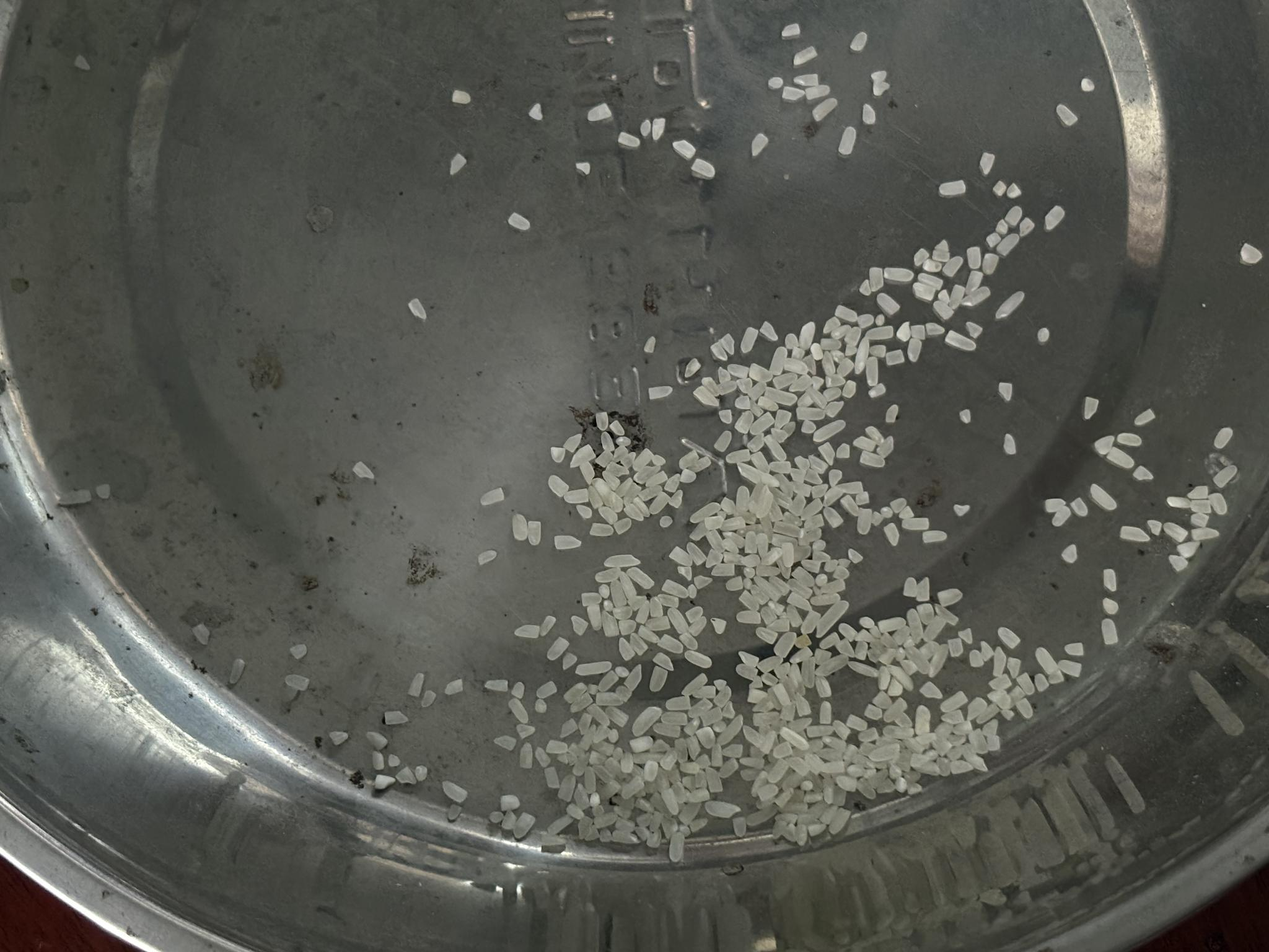Rice-th-y-nh: (814, 598, 850, 639), (1034, 647, 1065, 685), (630, 706, 663, 737), (594, 479, 624, 512), (717, 715, 744, 747), (996, 291, 1025, 320), (885, 663, 914, 692), (816, 653, 850, 677), (927, 644, 951, 678), (779, 726, 810, 751), (852, 337, 872, 375), (813, 419, 846, 442), (690, 500, 721, 524), (1090, 484, 1118, 510), (763, 386, 797, 407), (910, 754, 941, 777), (763, 434, 788, 462), (753, 576, 781, 601), (512, 812, 537, 840), (736, 461, 763, 486), (923, 615, 947, 643), (773, 631, 797, 659), (618, 571, 639, 603), (828, 807, 852, 835), (626, 566, 655, 589), (945, 330, 976, 351), (847, 659, 879, 679), (788, 664, 807, 697), (812, 98, 838, 122), (569, 445, 595, 469), (766, 758, 790, 784), (681, 673, 708, 696), (441, 780, 468, 803), (1107, 447, 1135, 469), (667, 607, 689, 635), (782, 755, 810, 777), (809, 590, 841, 609), (587, 703, 611, 728), (961, 287, 991, 307), (768, 346, 788, 376), (749, 412, 775, 435), (693, 385, 719, 408), (772, 472, 795, 498), (662, 578, 689, 600), (882, 724, 915, 742), (604, 553, 641, 569), (940, 691, 968, 712), (633, 464, 661, 485), (608, 579, 628, 608), (653, 720, 682, 740), (863, 356, 881, 388), (787, 577, 813, 599), (843, 326, 862, 356), (546, 814, 573, 835), (557, 774, 577, 802), (791, 566, 815, 589), (648, 491, 671, 515), (547, 637, 570, 661), (996, 233, 1020, 256), (1214, 465, 1238, 488), (632, 447, 654, 472), (508, 698, 529, 724), (787, 592, 813, 613), (658, 633, 684, 654), (772, 371, 799, 391), (740, 327, 760, 354), (576, 661, 612, 676), (600, 611, 620, 638), (800, 610, 821, 635), (688, 698, 713, 719), (933, 604, 958, 625), (988, 689, 1013, 710), (877, 616, 906, 634), (668, 547, 694, 567), (783, 356, 809, 376), (705, 767, 724, 794), (806, 386, 828, 409), (1056, 104, 1079, 126), (877, 293, 900, 315), (705, 529, 726, 553), (605, 706, 629, 727), (734, 410, 755, 434), (611, 828, 639, 846), (1163, 522, 1188, 542), (964, 270, 984, 295), (749, 363, 774, 383), (624, 664, 643, 690), (757, 654, 783, 673), (947, 284, 966, 310), (672, 737, 690, 764), (822, 506, 844, 528), (686, 542, 707, 565), (700, 706, 723, 727), (998, 627, 1021, 648), (718, 756, 739, 779), (1240, 243, 1263, 264), (793, 693, 813, 717), (672, 139, 696, 159), (570, 693, 594, 713), (916, 602, 936, 626), (876, 435, 896, 459), (660, 710, 688, 727), (806, 722, 834, 739), (822, 734, 847, 753), (905, 337, 924, 362), (1176, 540, 1201, 559), (284, 673, 310, 691), (595, 566, 621, 584), (804, 83, 830, 101), (598, 670, 619, 692), (628, 633, 649, 655), (750, 452, 771, 474), (564, 683, 586, 704), (739, 591, 761, 612), (678, 450, 700, 471), (803, 753, 825, 774), (840, 494, 860, 517), (1016, 673, 1036, 696), (903, 735, 926, 755), (773, 683, 793, 706), (586, 604, 603, 631), (819, 578, 846, 595), (784, 604, 803, 628), (789, 374, 813, 393), (1058, 659, 1082, 678), (691, 159, 715, 178), (788, 715, 813, 733), (726, 447, 751, 465), (866, 325, 894, 341), (859, 451, 885, 468), (933, 300, 954, 321), (807, 454, 828, 475), (548, 475, 569, 496), (942, 256, 963, 277), (749, 584, 770, 605), (768, 575, 790, 595), (1208, 493, 1228, 515), (761, 546, 783, 566), (713, 685, 732, 708), (913, 282, 936, 301), (789, 479, 812, 498), (767, 616, 791, 634), (789, 646, 813, 664), (735, 663, 759, 681), (919, 681, 943, 699), (665, 695, 692, 711), (988, 674, 1012, 692), (656, 592, 680, 610), (780, 542, 797, 567), (638, 485, 663, 502), (685, 735, 702, 760), (598, 505, 619, 525), (836, 638, 856, 659), (865, 425, 886, 445), (832, 719, 852, 740), (872, 690, 893, 710), (701, 376, 721, 397), (756, 626, 778, 645), (652, 653, 674, 672), (638, 625, 660, 644), (353, 461, 375, 480), (689, 615, 708, 637), (408, 298, 427, 320), (670, 782, 689, 804), (578, 461, 596, 484), (835, 305, 858, 323), (883, 523, 901, 546), (192, 623, 210, 646), (819, 442, 836, 466), (587, 485, 604, 509), (618, 637, 635, 661), (408, 673, 425, 697), (853, 436, 877, 453), (838, 622, 858, 642), (563, 433, 583, 453), (635, 600, 651, 625), (803, 467, 823, 487), (918, 273, 943, 289), (645, 615, 670, 631), (759, 321, 779, 341), (720, 516, 745, 532), (846, 713, 867, 732), (570, 615, 589, 636), (747, 432, 766, 453), (773, 408, 792, 429), (602, 470, 621, 491), (1052, 506, 1071, 527), (772, 741, 793, 760), (1094, 435, 1115, 454), (819, 632, 841, 650), (814, 676, 832, 698), (538, 615, 556, 637), (645, 471, 668, 488), (494, 734, 517, 751), (1082, 396, 1099, 419), (617, 131, 640, 148), (711, 562, 737, 577), (821, 351, 836, 377), (755, 563, 779, 579), (941, 709, 965, 725), (1102, 568, 1118, 592), (705, 549, 724, 569), (623, 504, 644, 522), (615, 477, 633, 498), (714, 431, 732, 452), (886, 677, 904, 698), (779, 702, 797, 723), (760, 605, 778, 626), (536, 681, 557, 699), (902, 517, 929, 531), (916, 577, 931, 602), (384, 710, 409, 725), (877, 666, 892, 691), (619, 752, 636, 774), (857, 727, 880, 743), (694, 684, 717, 700), (736, 610, 762, 624), (679, 632, 698, 651), (836, 358, 855, 377), (823, 316, 842, 335), (1070, 498, 1089, 517), (825, 400, 845, 418), (613, 517, 633, 535), (935, 756, 953, 776), (633, 497, 651, 517), (1005, 206, 1023, 226), (769, 460, 793, 475), (683, 717, 701, 737), (590, 522, 614, 537), (599, 431, 616, 452), (738, 650, 759, 667), (767, 501, 784, 522), (704, 514, 725, 531), (757, 395, 778, 412), (801, 558, 823, 574), (722, 743, 744, 759), (727, 363, 749, 379), (546, 739, 569, 754), (810, 482, 829, 500), (566, 803, 585, 821), (595, 450, 614, 468), (685, 605, 703, 624), (664, 473, 681, 493), (831, 324, 851, 341), (947, 637, 964, 657), (885, 349, 905, 366), (1168, 554, 1188, 571), (902, 577, 918, 598), (485, 679, 509, 693), (515, 723, 536, 739), (612, 605, 633, 621), (716, 380, 737, 396), (679, 760, 701, 775), (1187, 485, 1209, 500), (618, 619, 637, 636), (880, 633, 899, 650), (1190, 512, 1210, 528), (822, 386, 842, 402), (854, 640, 870, 660), (747, 688, 767, 704), (649, 597, 664, 618), (1191, 499, 1212, 514), (328, 730, 349, 745), (980, 640, 994, 662), (1007, 657, 1021, 679), (965, 321, 983, 338), (814, 648, 832, 665), (889, 497, 907, 514), (725, 575, 744, 591), (968, 649, 984, 668), (807, 822, 827, 837), (820, 337, 841, 351), (550, 446, 567, 463), (827, 469, 843, 487), (562, 652, 578, 670), (832, 566, 851, 581), (842, 380, 857, 399), (693, 575, 713, 589), (958, 627, 974, 644), (1146, 519, 1162, 536), (795, 456, 811, 473), (911, 324, 927, 341), (695, 754, 711, 771), (620, 452, 636, 469), (761, 672, 779, 687), (784, 333, 799, 351), (869, 344, 887, 359), (810, 342, 824, 361), (885, 404, 899, 423), (811, 550, 831, 563), (609, 420, 625, 436), (898, 506, 915, 521), (847, 548, 863, 563), (576, 504, 592, 519), (680, 469, 696, 484), (823, 558, 839, 573), (717, 367, 731, 384), (952, 504, 970, 517), (800, 779, 814, 792)
